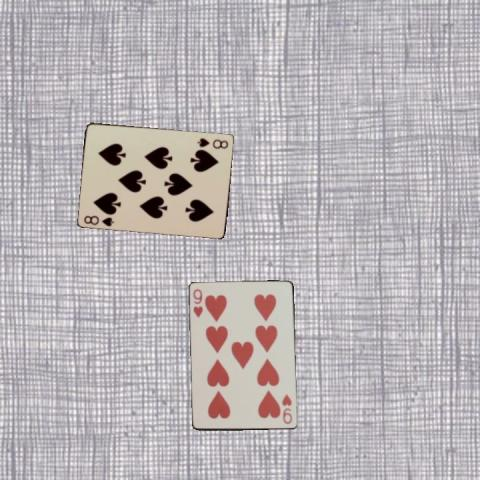8s: (195, 135, 230, 150), (82, 213, 115, 227)
9h: (280, 392, 294, 426), (190, 286, 204, 319)
